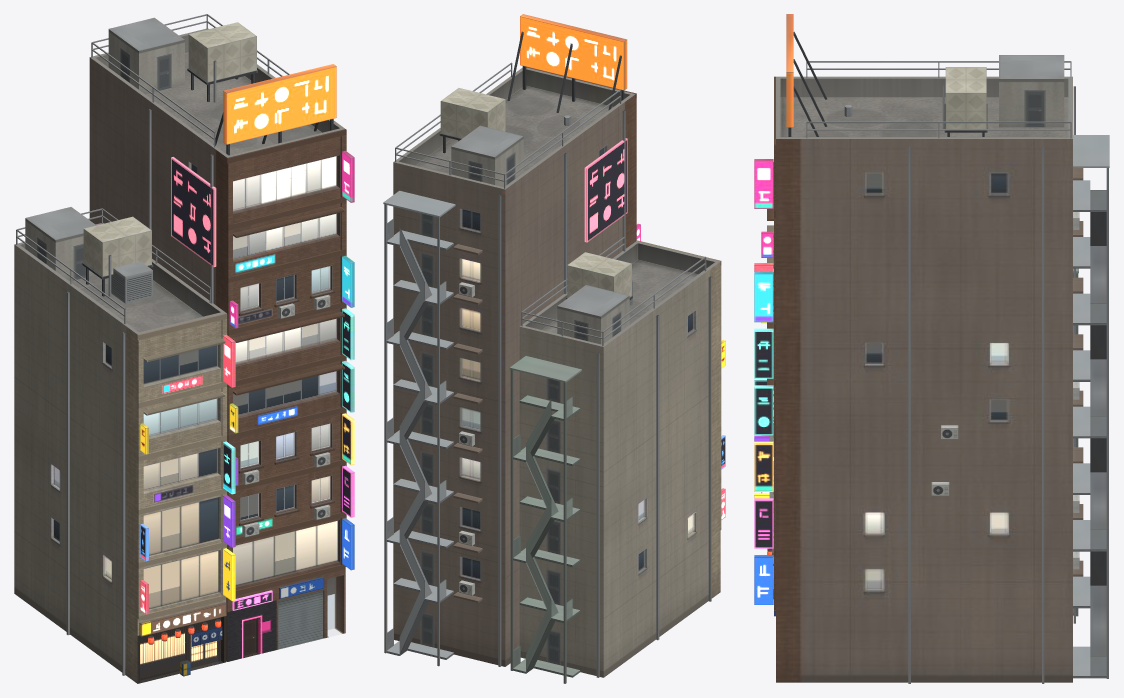
Rendered from tokyo_zakkyo_c.glb.
3 renders of one model, left to right at view 1: azimuth 30°, elevation 25°; view 2: azimuth 150°, elevation 25°; view 3: azimuth 270°, elevation 25°, orthographic. The views are drawn at different scales.
Visible parts, largest first — view 1: tokyo_zakkyo_c; view 2: tokyo_zakkyo_c; view 3: tokyo_zakkyo_c.
Boxes of the visible parts, x1,y1,x2,y2 form: tokyo_zakkyo_c: (14,14,354,683); tokyo_zakkyo_c: (383,14,725,683); tokyo_zakkyo_c: (754,14,1109,683).
Size of the model in its own units: 13.12 by 32.8 by 17.37.
Materials: 1 (1 with a texture image).
